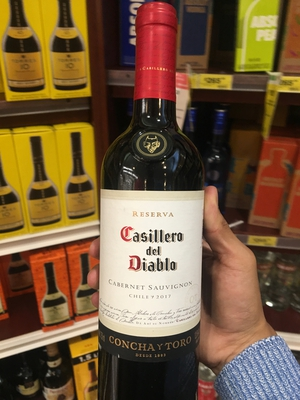casillero del diablo cabernet sauvignon: (99, 14, 211, 400)
